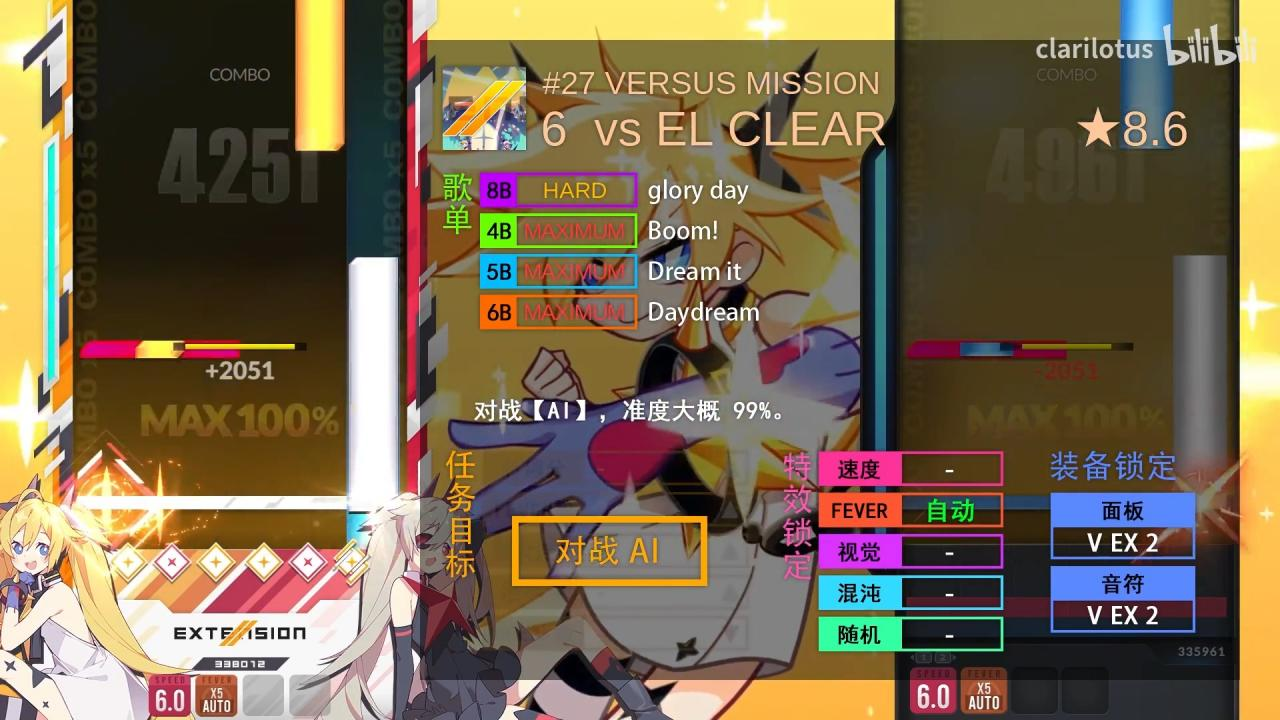hold-end: (349, 257, 399, 273)
hold-start: (296, 135, 346, 151)
note: (136, 339, 185, 358)
xnote: (80, 340, 240, 359)
